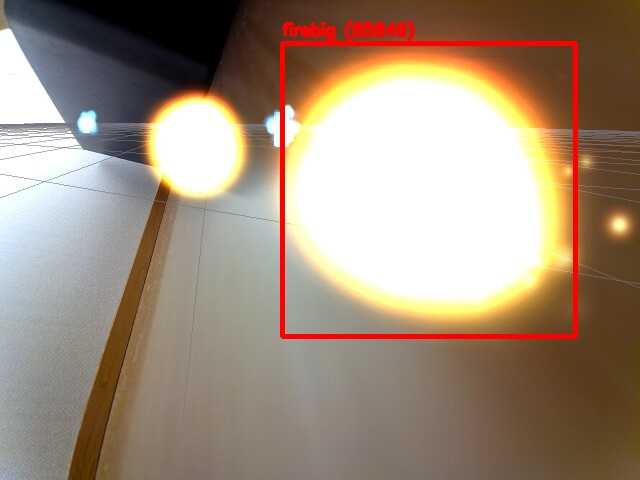firebig: (282, 43, 575, 336)
